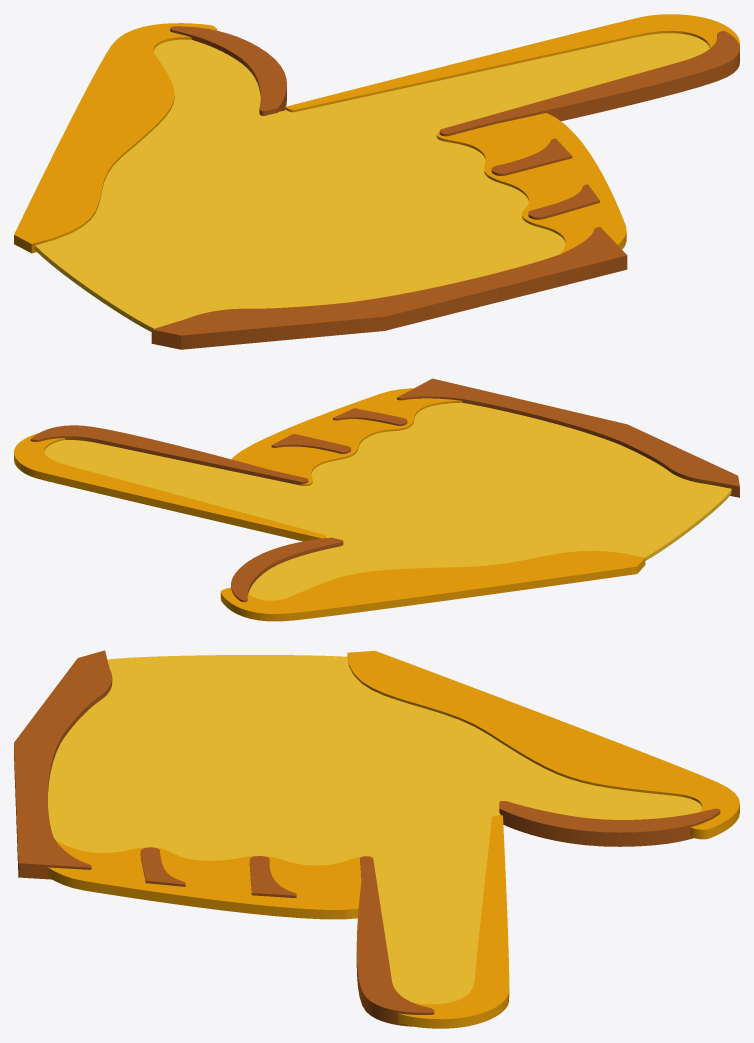
Rendered from emoji_u1f449.glb.
3 renders of one model, top to bottom at view 1: azimuth 30°, elevation 25°; view 2: azimuth 150°, elevation 25°; view 3: azimuth 270°, elevation 25°, orthographic. The views are drawn at different scales.
Visible parts, largest first — view 1: emoji_u1f449; view 2: emoji_u1f449; view 3: emoji_u1f449.
Boxes of the visible parts, x1=… form: emoji_u1f449: x1=14, y1=14, x2=739, y2=349; emoji_u1f449: x1=14, y1=378, x2=739, y2=621; emoji_u1f449: x1=14, y1=650, x2=739, y2=1028.
Size of the model in its own units: 0.0331 by 0.0006 by 0.0276.
